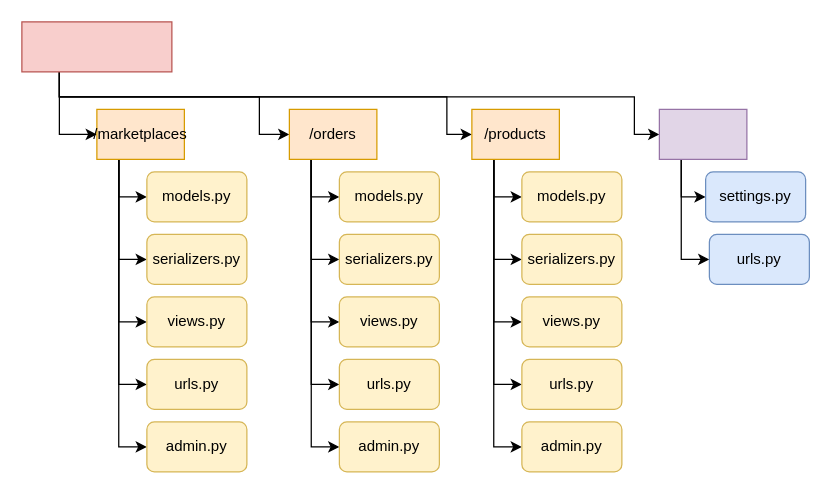
Image size: 831x494. Some labels were removed from this diagram. Here are the shapes that lost their labels. From the top down, the centre of each, then its label:
the point at 96,46: /django_project
the point at 702,133: /project
